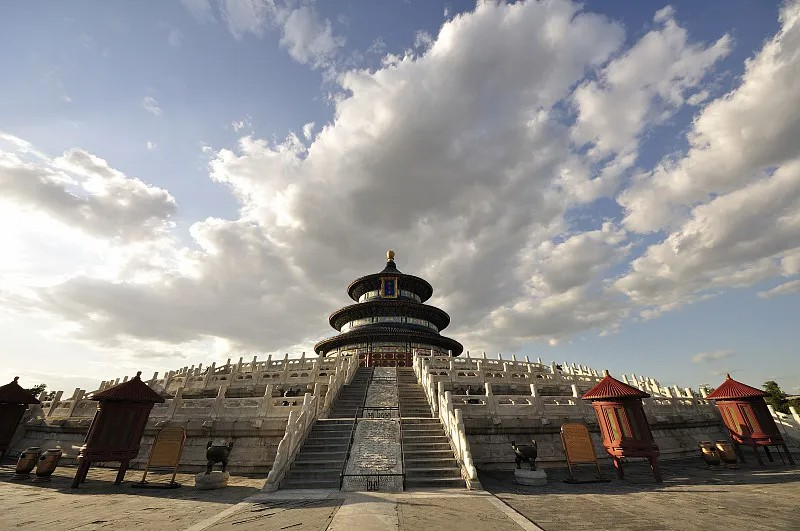Heaven: (315, 250, 463, 365)
